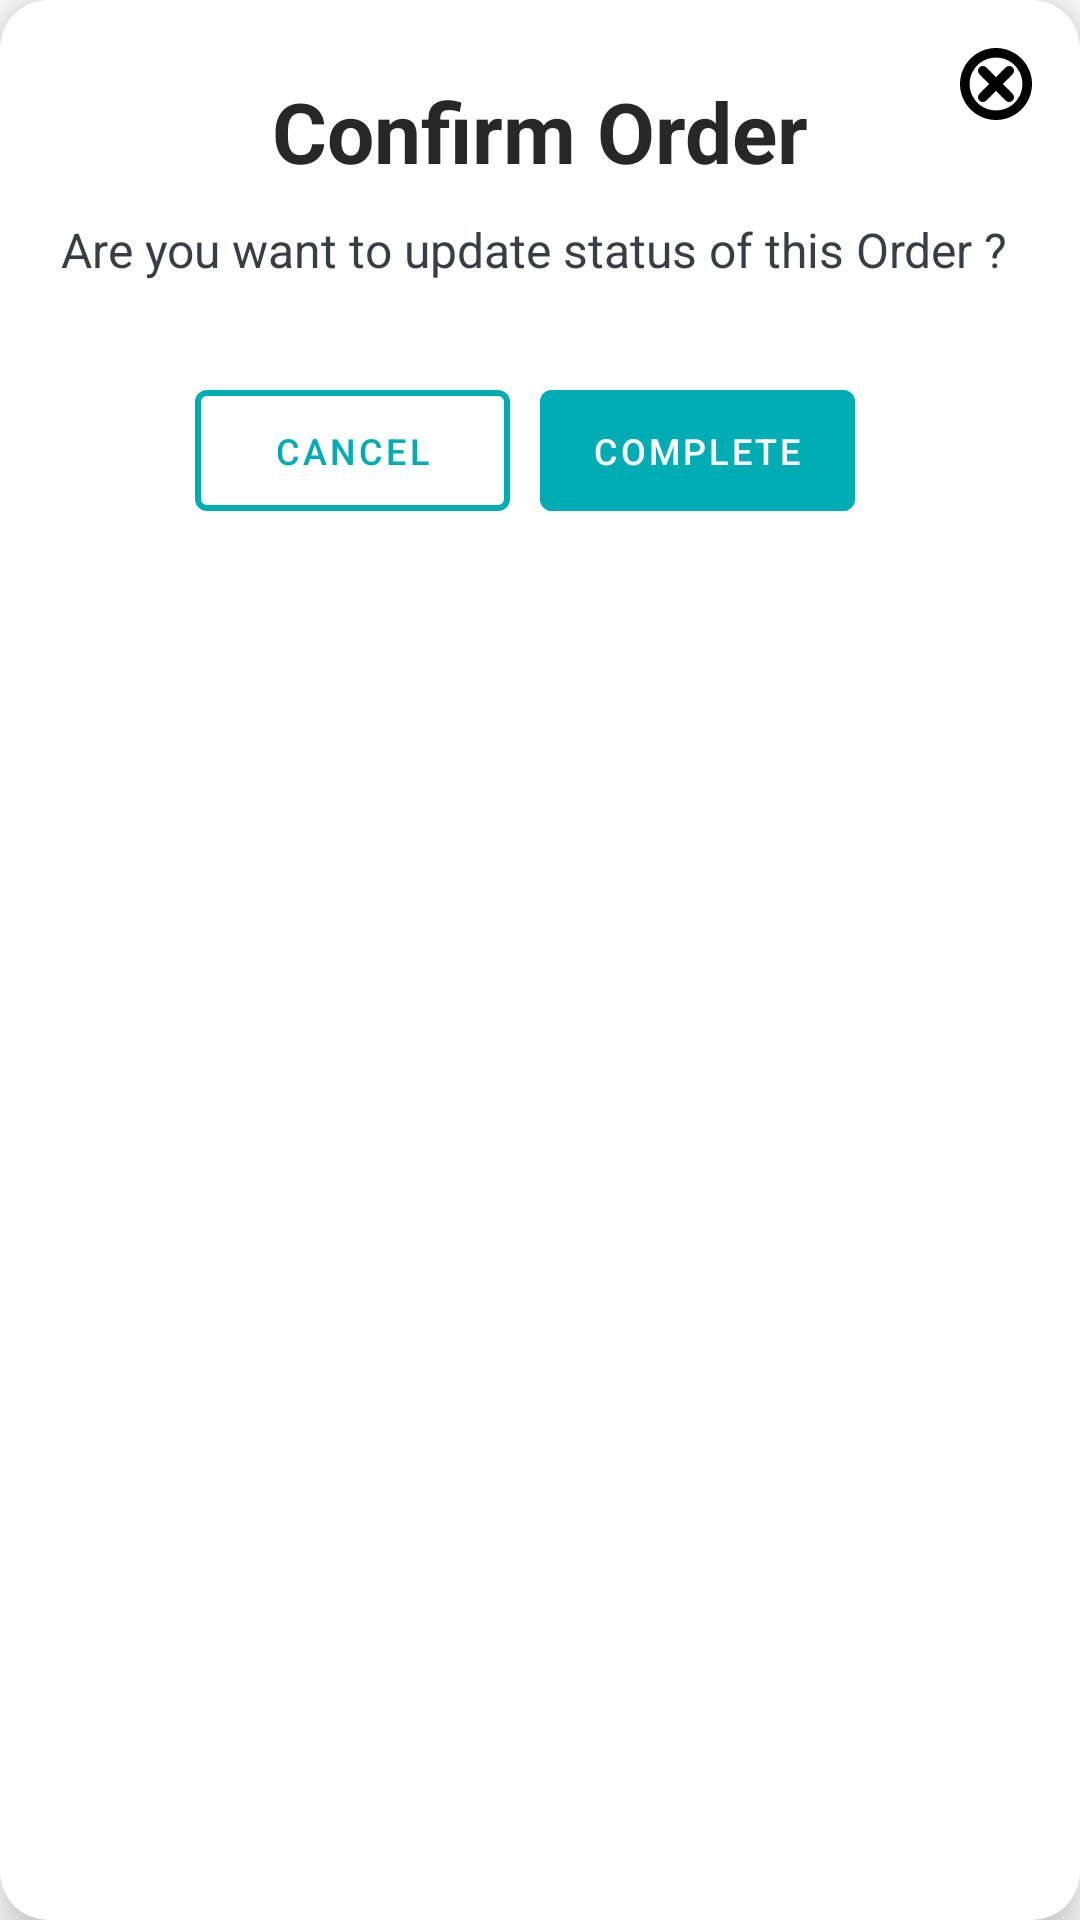

Icons on this 1080w x 1920h Android screen, each with the point to tap as [x,y]:
cancel: [996,84]
